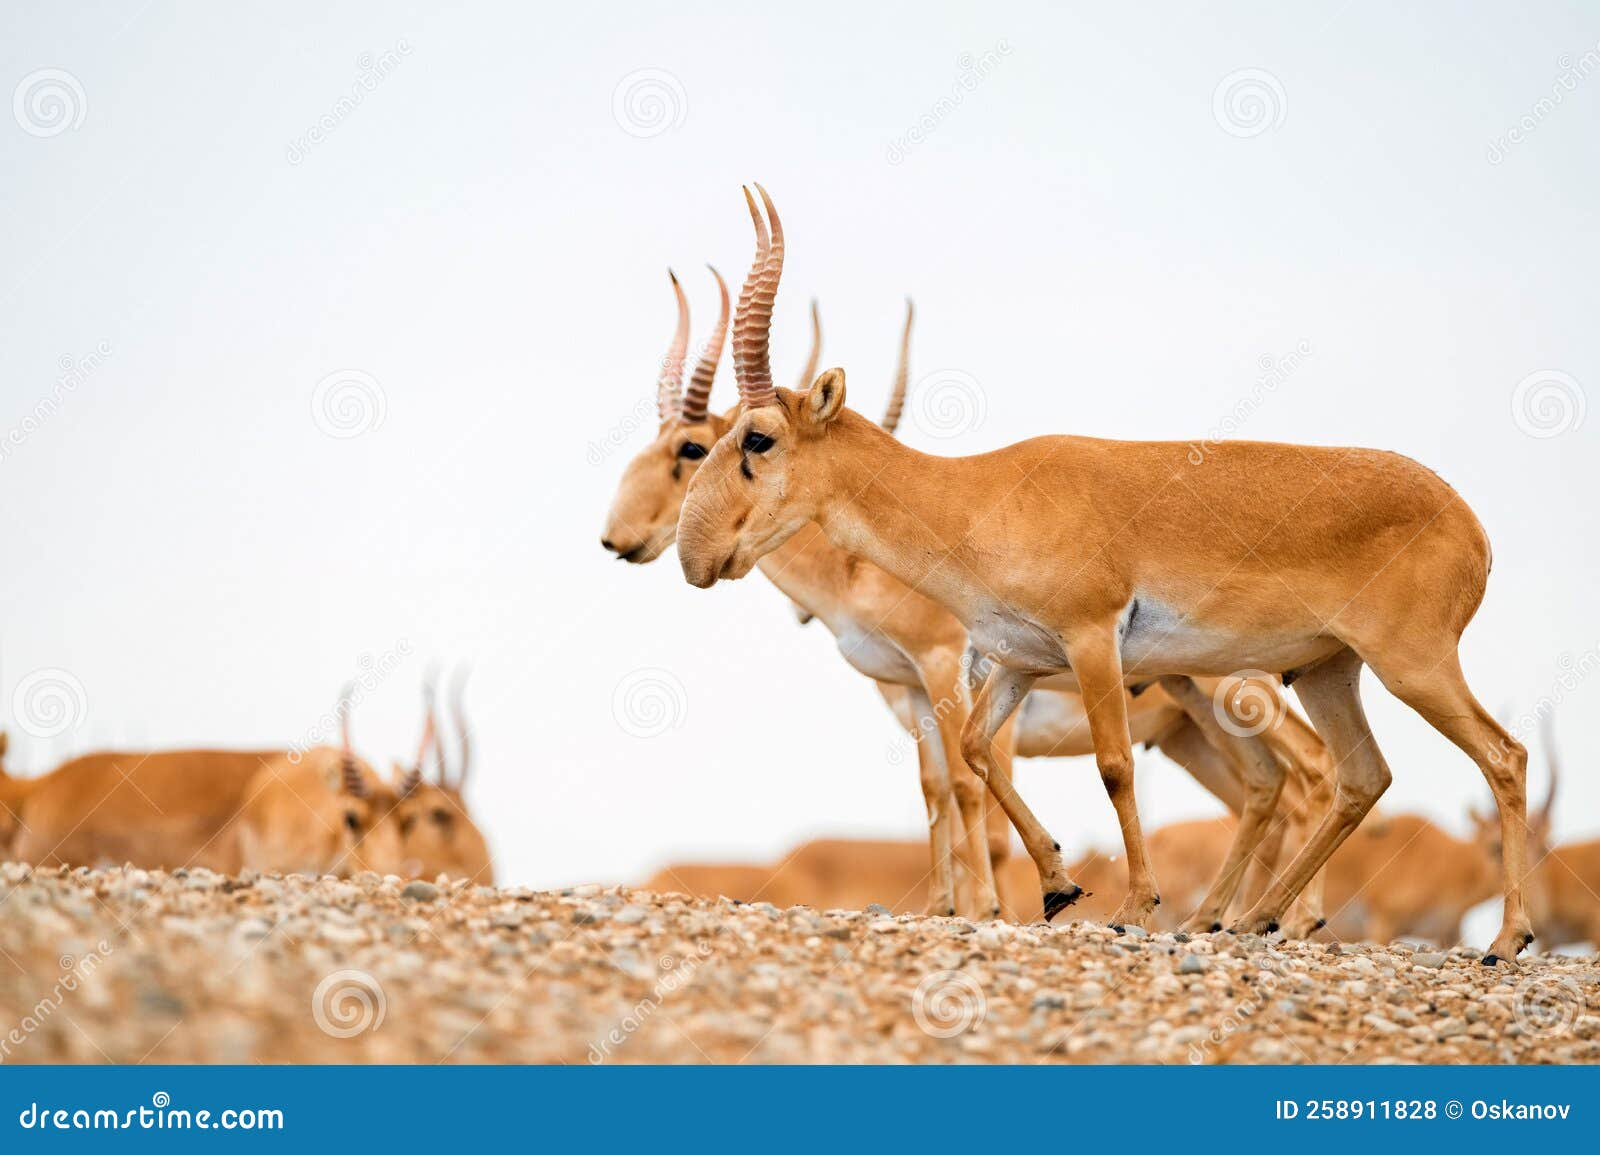saiga: (675, 183, 1535, 955)
